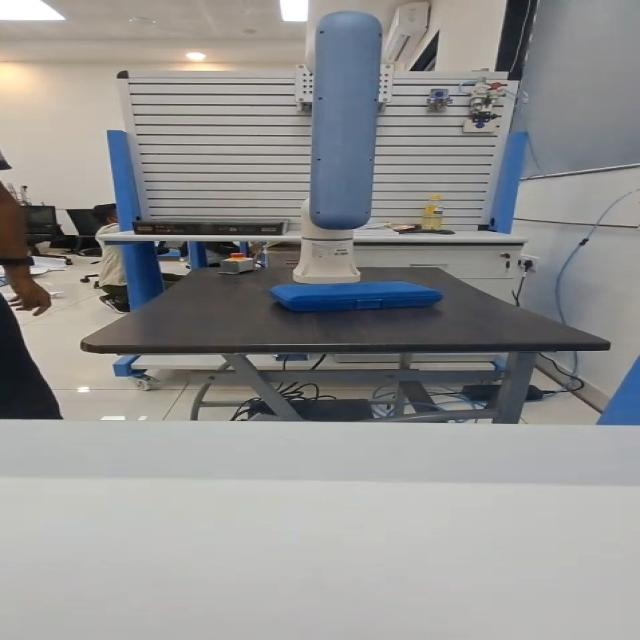top-surface: (287, 284, 417, 294)
